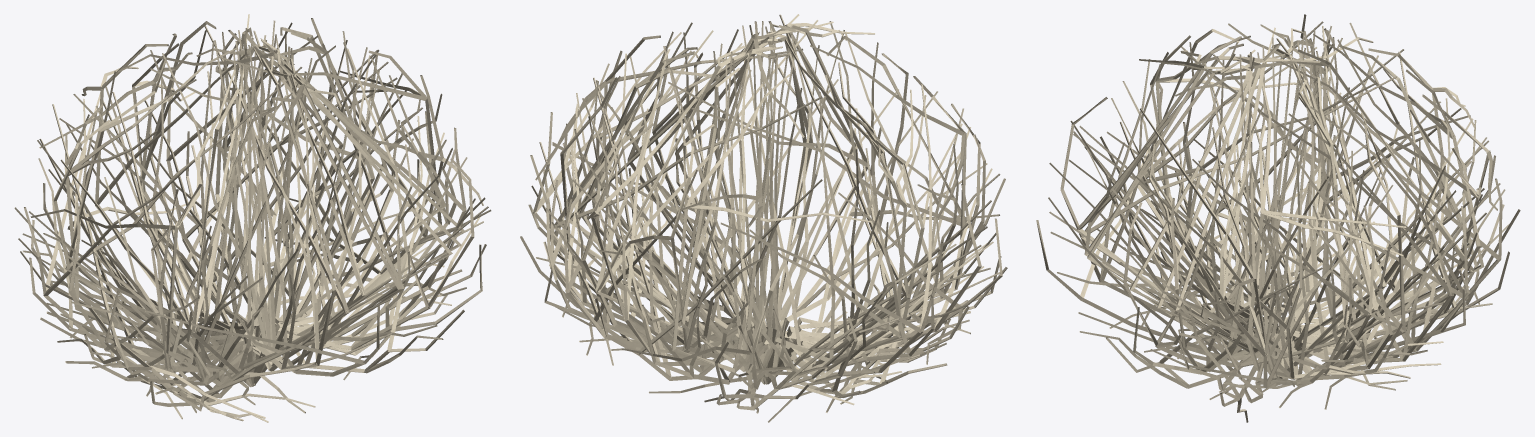
Rendered from BC2_TUMBLE01.glb.
The picture shows the model from 3 angles, left to right: view 1: azimuth 30°, elevation 25°; view 2: azimuth 150°, elevation 25°; view 3: azimuth 270°, elevation 25°; orthographic projection.
Visible parts, largest first — view 1: BC2_TUMBLE01_twig; view 2: BC2_TUMBLE01_twig; view 3: BC2_TUMBLE01_twig.
Part boxes in pixels (x1,y1,x2,y2): BC2_TUMBLE01_twig: (14,14,491,422); BC2_TUMBLE01_twig: (520,14,1007,422); BC2_TUMBLE01_twig: (1036,14,1520,422).
Bounding box in the file's own units: 1 × 0.8324 × 1.03.
1 material, 1 textured.
